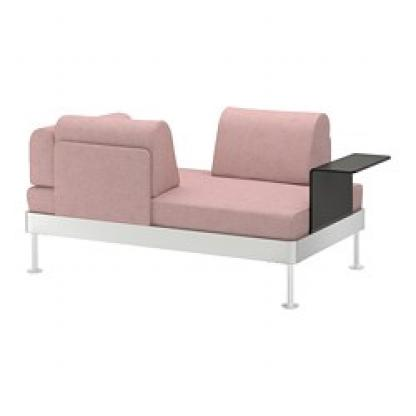Sofa: (17, 65, 394, 314)
